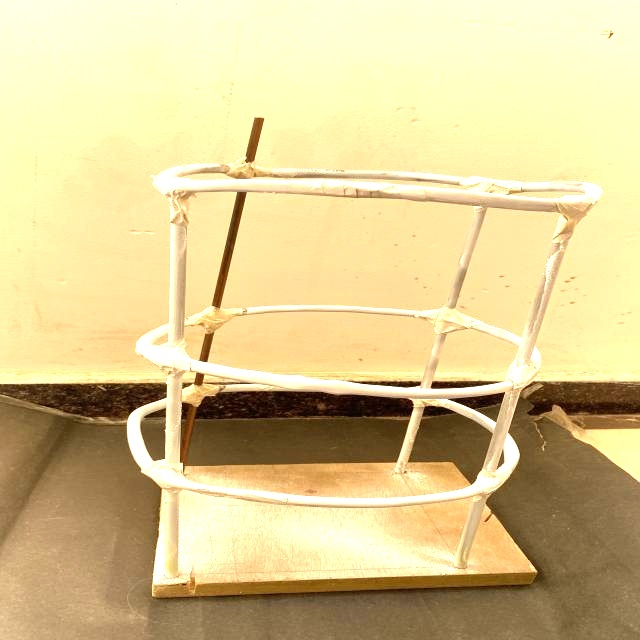silo: (150, 113, 612, 585)
